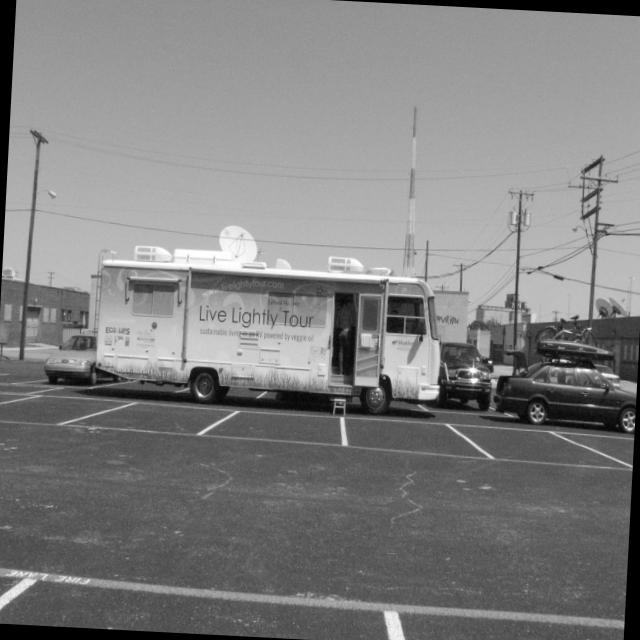bus: (89, 240, 448, 418)
